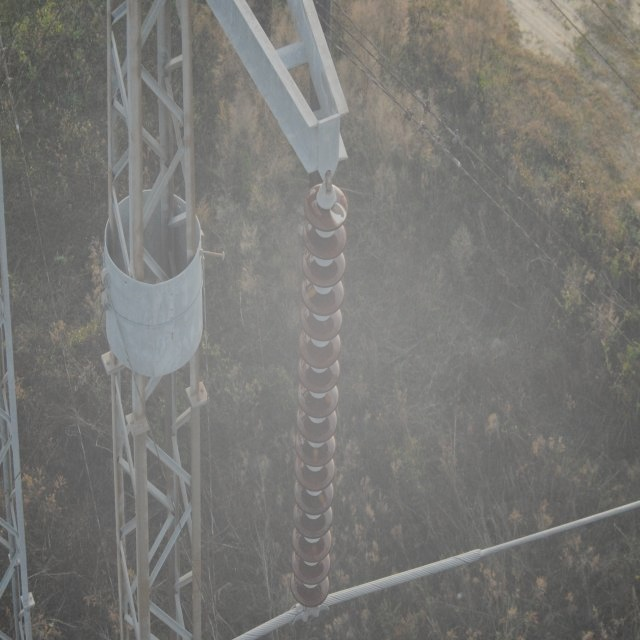insulator: (292, 180, 348, 606)
